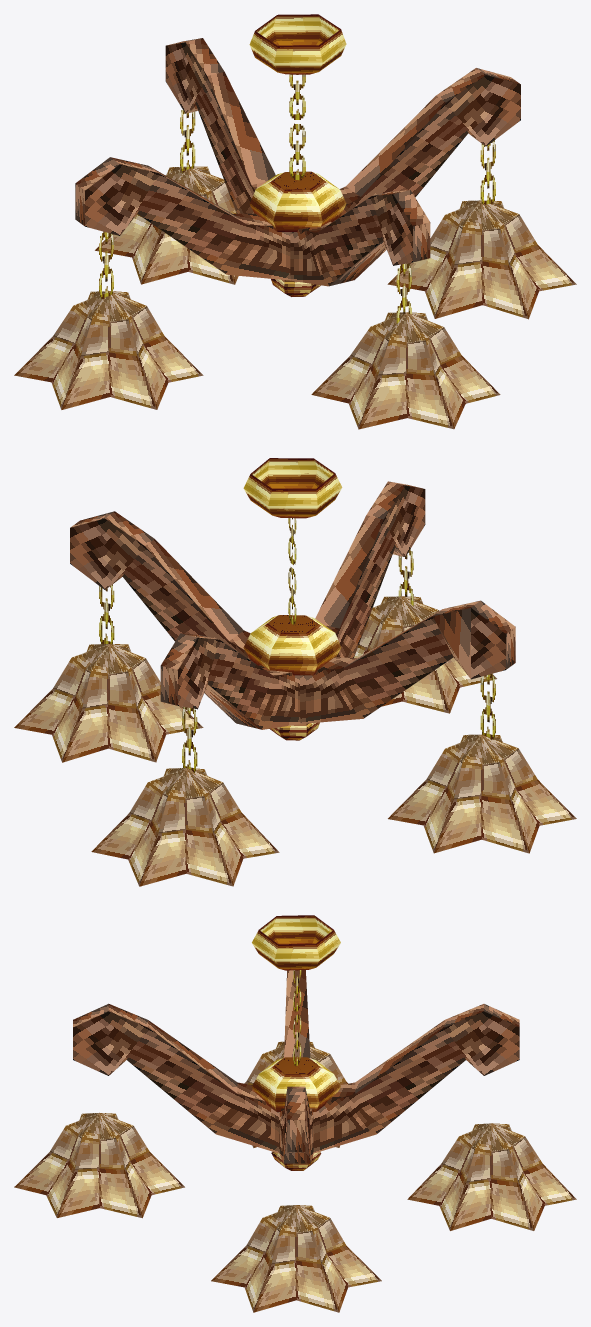
The model's file is syan35_1.glb.
3 renders of one model, top to bottom at view 1: azimuth 30°, elevation 25°; view 2: azimuth 150°, elevation 25°; view 3: azimuth 270°, elevation 25°, orthographic. The views are drawn at different scales.
Parts seen in each view (by area): view 1: syan35_1; view 2: syan35_1; view 3: syan35_1.
Boxes of the visible parts, bbox=[...] form: syan35_1: bbox=[14, 14, 576, 429]; syan35_1: bbox=[14, 458, 576, 886]; syan35_1: bbox=[14, 915, 576, 1312].
Size of the model in its own units: 301 by 167 by 315.
6 materials, 6 textured.
